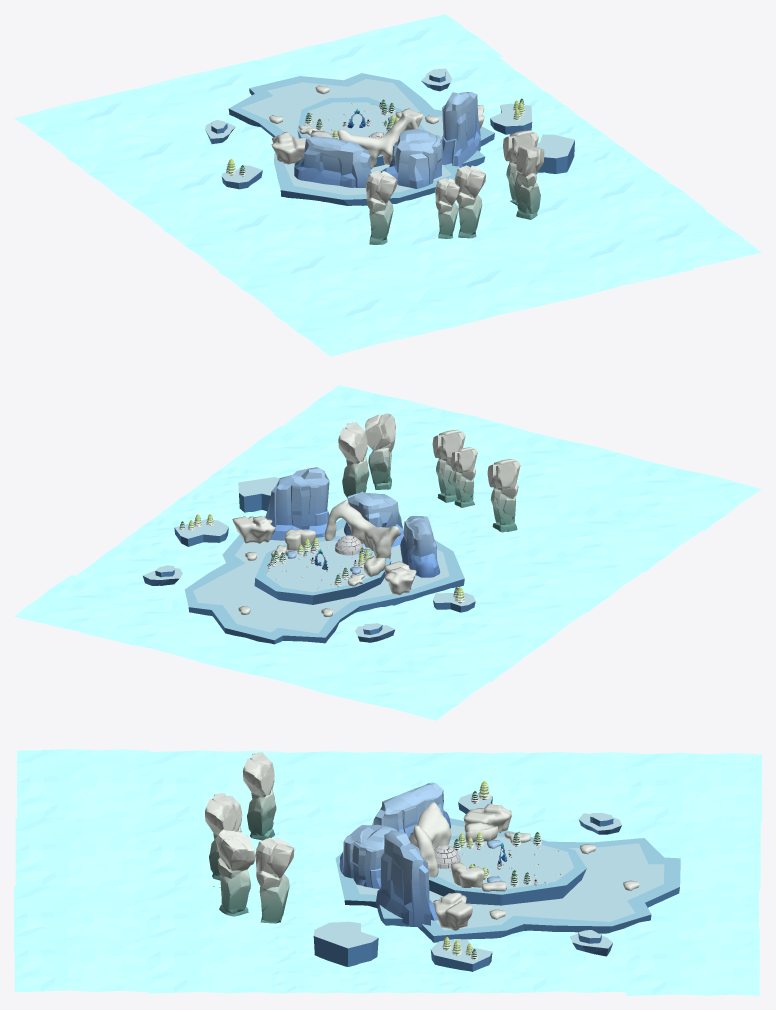
Rendered from Battle_Snowmap_03_Hero.fbx.
3 views of the same model, one above another, from view 1: azimuth 30°, elevation 25°; view 2: azimuth 150°, elevation 25°; view 3: azimuth 270°, elevation 25° (orthographic). The views are drawn at different scales.
Parts seen in each view (by area): view 1: polySurface3, Snowmap_03_Mountain, Land_04, Land_13, Land_12, Land_14, Land_15, Land_17, Land_03, Land_10, Land_11, Land_09 (+24 smaller); view 2: polySurface3, Snowmap_03_Mountain, Land_13, Land_12, Land_14, Land_15, Land_04, Land_17, Land_05, Land_11, polySurface2, Land_16 (+23 smaller); view 3: polySurface3, Land_04, Land_13, Land_14, Snowmap_03_Mountain, Land_15, Land_10, Land_17, Land_11, Land_09, Land_05, Land_07 (+28 smaller).
Boxes of the visible parts, box(x1,y1,x2,y2) form: polySurface3: box(205, 68, 574, 205); Snowmap_03_Mountain: box(294, 92, 480, 188); Land_04: box(395, 256, 572, 327); Land_13: box(273, 285, 450, 356); Land_12: box(218, 243, 395, 313); Land_14: box(14, 88, 189, 159); Land_15: box(162, 201, 336, 271); Land_17: box(66, 129, 229, 199); Land_03: box(343, 214, 517, 284); Land_10: box(596, 210, 761, 282); Land_11: box(333, 14, 502, 80); Land_09: box(540, 168, 706, 234); polySurface3: box(143, 477, 475, 644); Snowmap_03_Mountain: box(265, 467, 439, 577); Land_13: box(586, 460, 761, 530); Land_12: box(529, 501, 701, 571); Land_14: box(317, 652, 490, 720); Land_15: box(470, 543, 644, 612); Land_04: box(474, 430, 643, 501); Land_17: box(373, 619, 547, 682); Land_05: box(199, 635, 372, 690); Land_11: box(14, 575, 174, 645); polySurface2: box(254, 535, 391, 604); Land_16: box(418, 581, 587, 652); polySurface3: box(313, 793, 680, 971); Land_04: box(15, 816, 149, 886); Land_13: box(17, 749, 150, 818); Land_14: box(628, 753, 761, 822); Snowmap_03_Mountain: box(339, 782, 450, 927); Land_15: box(280, 751, 414, 820); Land_10: box(14, 923, 148, 991); Land_17: box(505, 752, 638, 821); Land_11: box(626, 927, 759, 995); Land_09: box(147, 925, 280, 993); Land_05: box(627, 820, 760, 889); Land_07: box(14, 884, 147, 954).
Size of the model in its own units: 9225 by 1767 by 11888.
